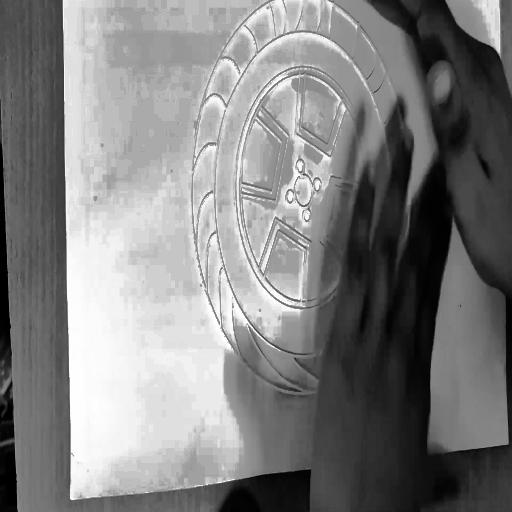bottom_left: (66, 494, 75, 508)
bottom_right: (505, 436, 512, 451)
tire: (186, 0, 443, 429)
